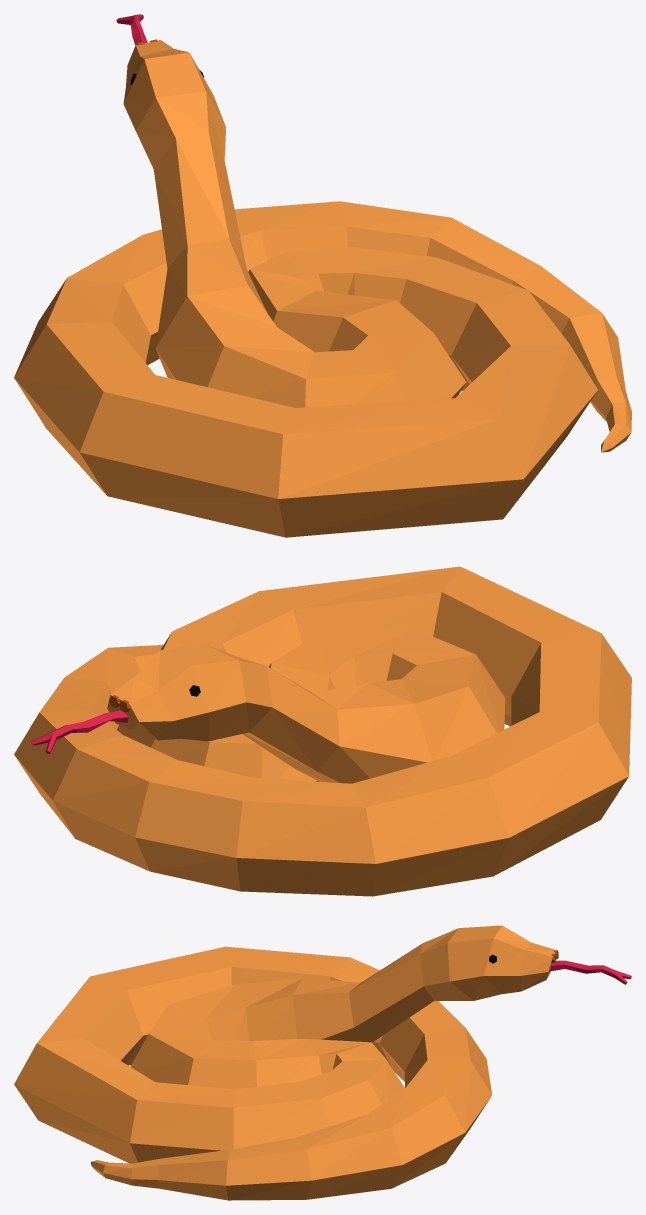
3 renders of one model, top to bottom at view 1: azimuth 30°, elevation 25°; view 2: azimuth 150°, elevation 25°; view 3: azimuth 270°, elevation 25°, orthographic. The views are drawn at different scales.
Parts seen in each view (by area): view 1: group2142745760; view 2: group2142745760, group1742473196; view 3: group2142745760, group1742473196.
Boxes of the visible parts, <box> form: group2142745760: <box>14,40,631,537</box>; group2142745760: <box>14,566,631,896</box>; group1742473196: <box>31,710,128,753</box>; group2142745760: <box>14,925,556,1200</box>; group1742473196: <box>549,960,631,984</box>.
Size of the model in its own units: 1 by 0.4382 by 1.34.
